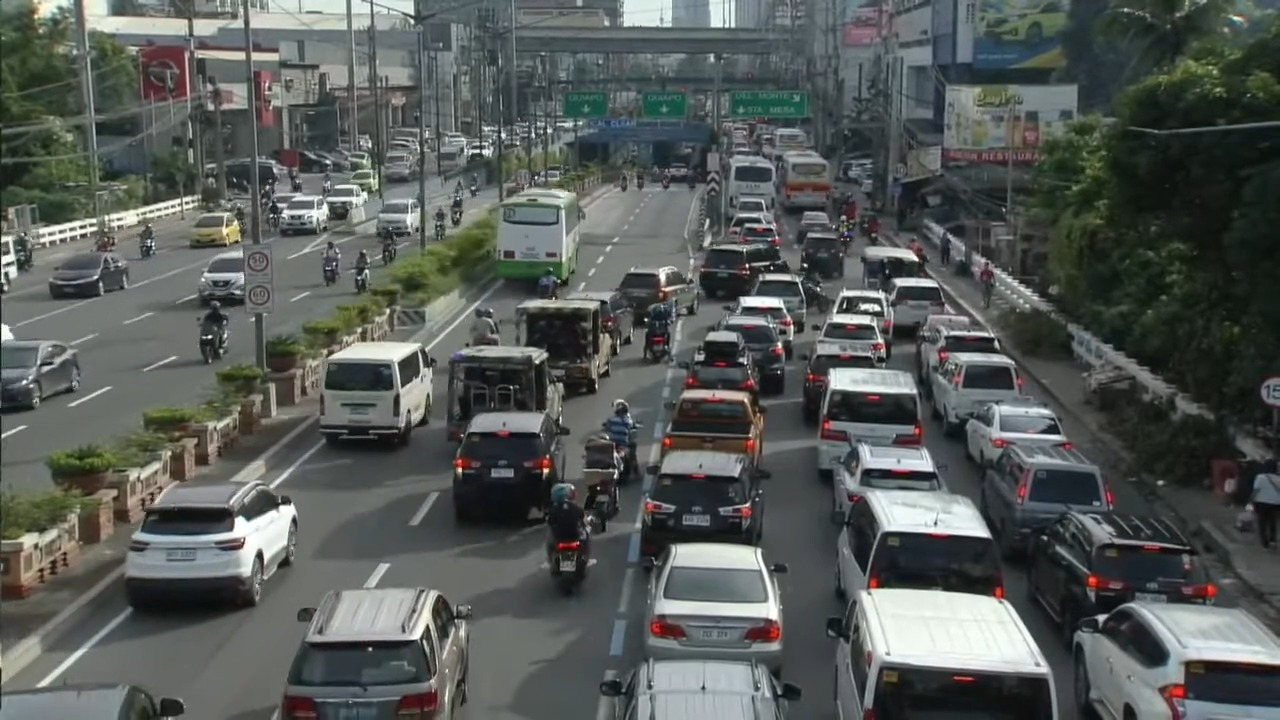bus: (494, 188, 584, 281), (725, 155, 776, 217), (779, 151, 832, 210), (773, 128, 808, 156), (0, 235, 17, 291)
car: (275, 587, 471, 719), (1027, 511, 1216, 646), (1071, 602, 1279, 719), (123, 482, 298, 609), (643, 542, 787, 676), (980, 443, 1113, 558), (640, 449, 766, 557), (452, 411, 567, 522), (601, 659, 800, 719), (833, 441, 947, 522), (928, 352, 1023, 436), (965, 397, 1067, 466), (801, 341, 885, 423), (0, 682, 185, 719), (916, 315, 1001, 385), (0, 339, 80, 409), (715, 315, 785, 394), (724, 296, 802, 359), (697, 243, 783, 297), (618, 267, 699, 324), (566, 290, 634, 355), (980, 0, 1068, 46), (679, 348, 758, 398), (48, 252, 129, 298), (813, 314, 890, 361), (885, 277, 946, 331), (829, 288, 892, 338), (750, 272, 806, 325), (797, 228, 846, 279), (197, 250, 243, 304), (280, 195, 328, 235), (189, 211, 241, 247), (375, 198, 421, 238), (727, 212, 776, 240), (797, 211, 834, 241), (325, 184, 367, 208), (297, 150, 337, 173), (737, 224, 780, 245), (383, 148, 415, 174), (312, 151, 349, 171), (349, 169, 379, 193), (384, 161, 416, 181), (737, 196, 769, 215), (272, 191, 302, 211), (800, 211, 832, 228), (346, 151, 371, 170), (667, 163, 689, 181), (0, 323, 14, 341)
motorcycle: (584, 468, 620, 531), (549, 540, 586, 594), (614, 421, 643, 484), (199, 323, 226, 363), (802, 275, 831, 312), (643, 333, 670, 362), (14, 234, 33, 271), (322, 257, 338, 286), (537, 277, 558, 299), (381, 238, 397, 264), (139, 237, 157, 259), (354, 268, 369, 294), (95, 235, 115, 252), (840, 229, 852, 254), (268, 212, 280, 230), (450, 210, 462, 227), (434, 222, 445, 240), (237, 218, 247, 237), (322, 180, 332, 197), (291, 178, 302, 192), (868, 231, 879, 244), (687, 174, 695, 189), (469, 184, 478, 197), (661, 177, 670, 190), (619, 177, 627, 191), (636, 176, 644, 189)
